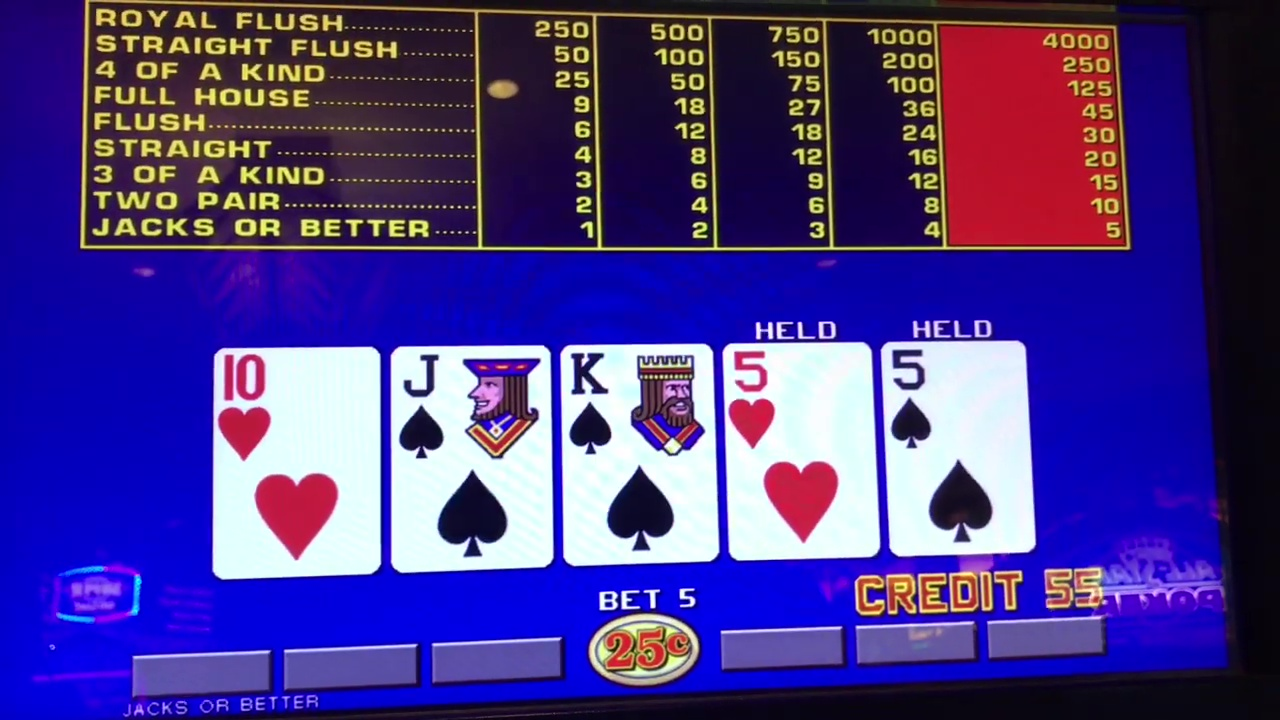H5: (729, 344, 867, 559)
HT: (220, 351, 382, 574)
S5: (890, 343, 1021, 550)
SJ: (398, 348, 543, 572)
SK: (564, 340, 710, 563)
